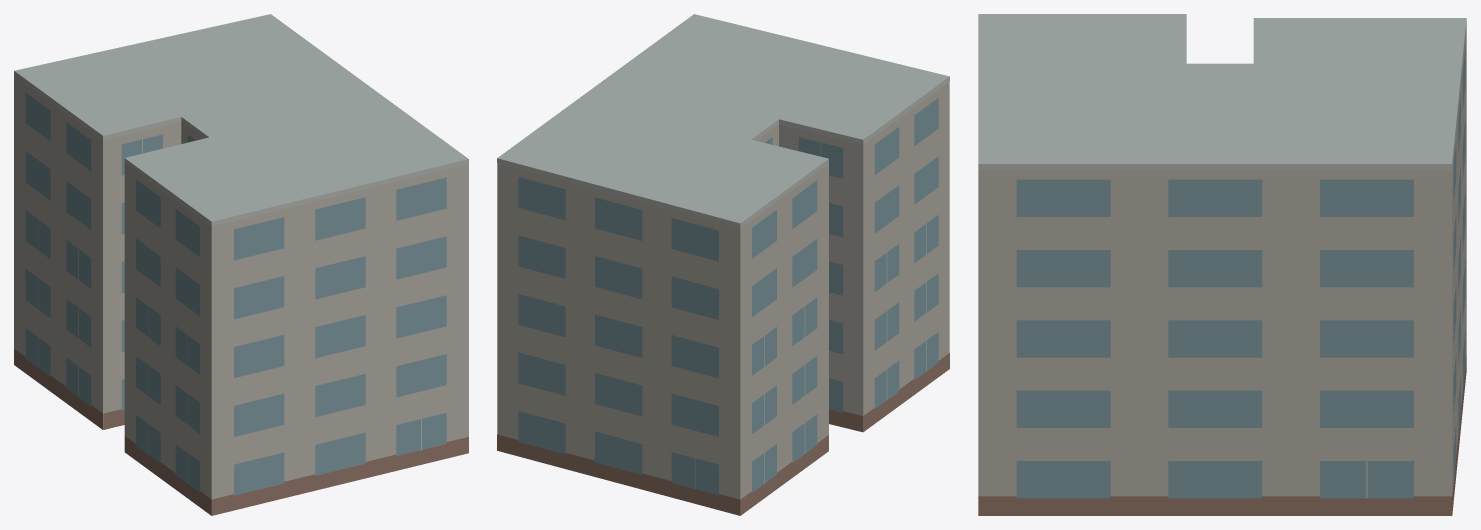
File: survey-upis-32896994.glb
3 renders of one model, left to right at view 1: azimuth 30°, elevation 25°; view 2: azimuth 150°, elevation 25°; view 3: azimuth 270°, elevation 25°, orthographic. The views are drawn at different scales.
Visible parts, largest first — view 1: survey-upis-32896994.tmp; view 2: survey-upis-32896994.tmp; view 3: survey-upis-32896994.tmp.
Part boxes in pixels (x1,y1,x2,y2): survey-upis-32896994.tmp: (14,14,468,515); survey-upis-32896994.tmp: (497,14,949,515); survey-upis-32896994.tmp: (978,14,1466,515).
Size of the model in its own units: 13.28 by 14.5 by 18.25.
